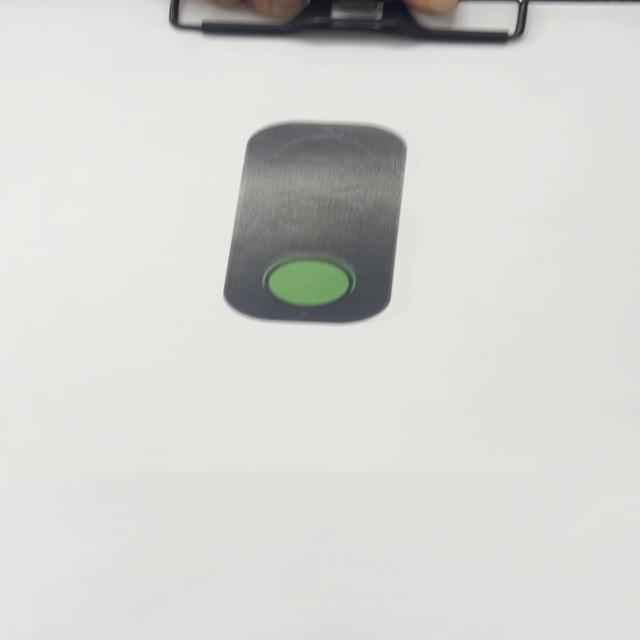green: (228, 119, 406, 325)
